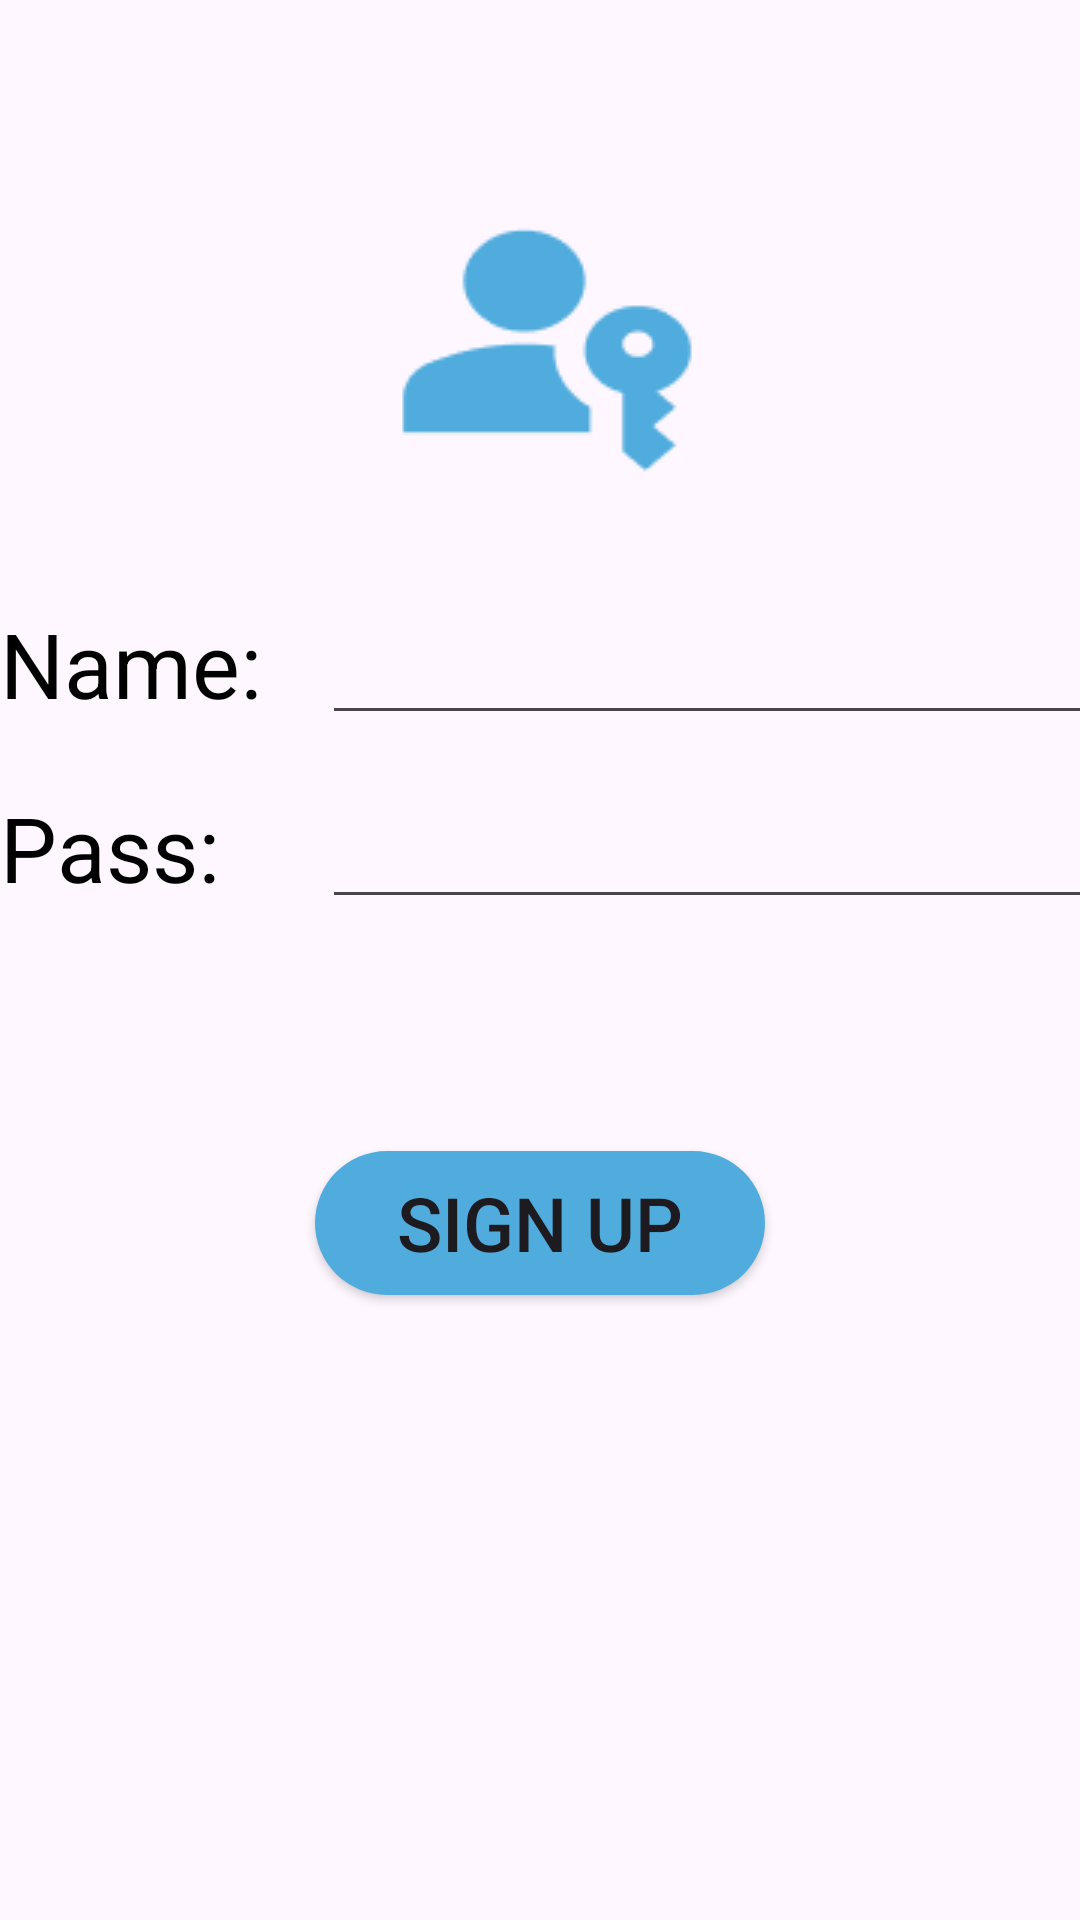

Point at icon controls on the screen. Image size 1080*1920, points as [x,y].
person: [547,351]
